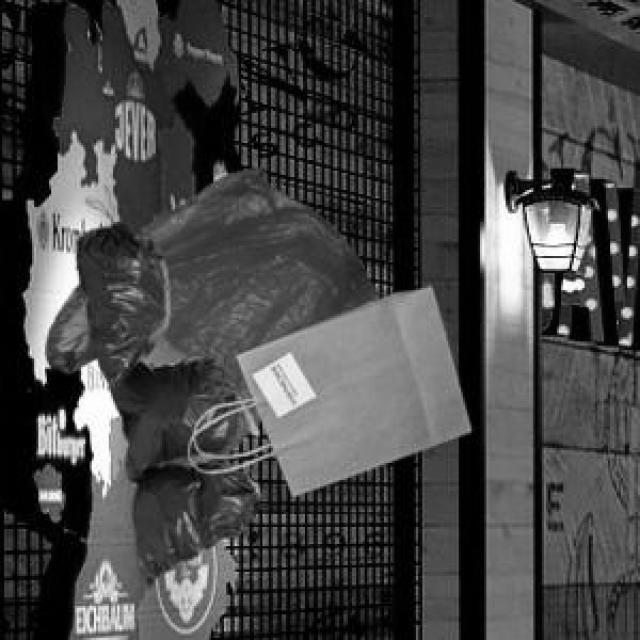miscellaneous trash: (73, 218, 258, 587)
paper: (233, 282, 467, 491)
